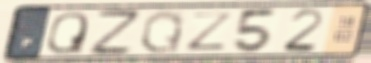2: (280, 7, 326, 53)
5: (229, 7, 285, 54)
Q: (138, 8, 187, 55), (44, 10, 91, 55)
Z: (86, 8, 142, 57), (185, 11, 238, 52)
